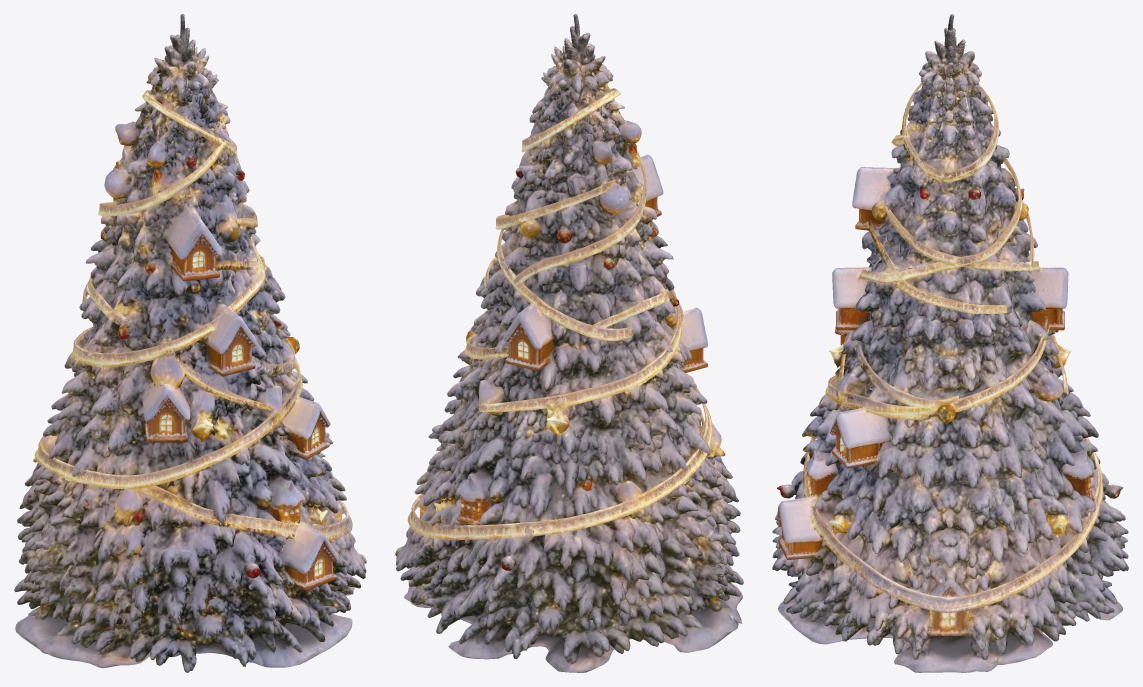
The model's file is christmas_tree.glb.
The picture shows the model from 3 angles, left to right: view 1: azimuth 30°, elevation 25°; view 2: azimuth 150°, elevation 25°; view 3: azimuth 270°, elevation 25°; orthographic projection.
Parts seen in each view (by area): view 1: tripo_part_0, tripo_part_1, tripo_part_9, tripo_part_2, tripo_part_5, tripo_part_4, tripo_part_3, tripo_part_7, tripo_part_10, tripo_part_11, tripo_part_13; view 2: tripo_part_0, tripo_part_9, tripo_part_1, tripo_part_10, tripo_part_6, tripo_part_12, tripo_part_3, tripo_part_11, tripo_part_5, tripo_part_14; view 3: tripo_part_0, tripo_part_1, tripo_part_9, tripo_part_2, tripo_part_7, tripo_part_6, tripo_part_4, tripo_part_5, tripo_part_8, tripo_part_12, tripo_part_11.
Part boxes in pixels (x1=…): tripo_part_0: x1=14, y1=47, x2=366, y2=672; tripo_part_1: x1=34, y1=336, x2=352, y2=540; tripo_part_9: x1=82, y1=90, x2=267, y2=327; tripo_part_2: x1=269, y1=475, x2=339, y2=590; tripo_part_5: x1=166, y1=206, x2=221, y2=281; tripo_part_4: x1=205, y1=302, x2=257, y2=376; tripo_part_3: x1=142, y1=381, x2=190, y2=442; tripo_part_7: x1=282, y1=394, x2=330, y2=459; tripo_part_10: x1=71, y1=316, x2=219, y2=367; tripo_part_11: x1=164, y1=14, x2=197, y2=66; tripo_part_13: x1=179, y1=361, x2=271, y2=411; tripo_part_0: x1=395, y1=43, x2=743, y2=672; tripo_part_9: x1=484, y1=88, x2=671, y2=340; tripo_part_1: x1=407, y1=322, x2=713, y2=539; tripo_part_10: x1=479, y1=289, x2=681, y2=412; tripo_part_6: x1=503, y1=298, x2=554, y2=370; tripo_part_12: x1=456, y1=468, x2=491, y2=525; tripo_part_3: x1=672, y1=308, x2=707, y2=372; tripo_part_11: x1=562, y1=14, x2=595, y2=68; tripo_part_5: x1=632, y1=154, x2=663, y2=216; tripo_part_14: x1=545, y1=403, x2=569, y2=436; tripo_part_0: x1=772, y1=51, x2=1128, y2=672; tripo_part_1: x1=803, y1=316, x2=1103, y2=612; tripo_part_9: x1=858, y1=83, x2=1039, y2=314; tripo_part_2: x1=776, y1=450, x2=837, y2=559; tripo_part_7: x1=829, y1=407, x2=891, y2=468; tripo_part_6: x1=1029, y1=267, x2=1068, y2=330; tripo_part_4: x1=832, y1=267, x2=872, y2=330; tripo_part_5: x1=852, y1=167, x2=896, y2=230; tripo_part_8: x1=928, y1=578, x2=972, y2=636; tripo_part_12: x1=1062, y1=450, x2=1094, y2=498; tripo_part_11: x1=934, y1=14, x2=974, y2=64.
Size of the model in its own units: 0.5405 by 0.9796 by 0.5429.
Materials: 15 (15 with a texture image).
